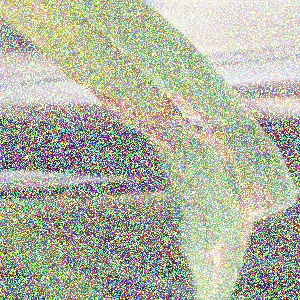Brown_Spot: (71, 79, 174, 162), (152, 79, 237, 177), (231, 176, 289, 246), (186, 229, 236, 292)
